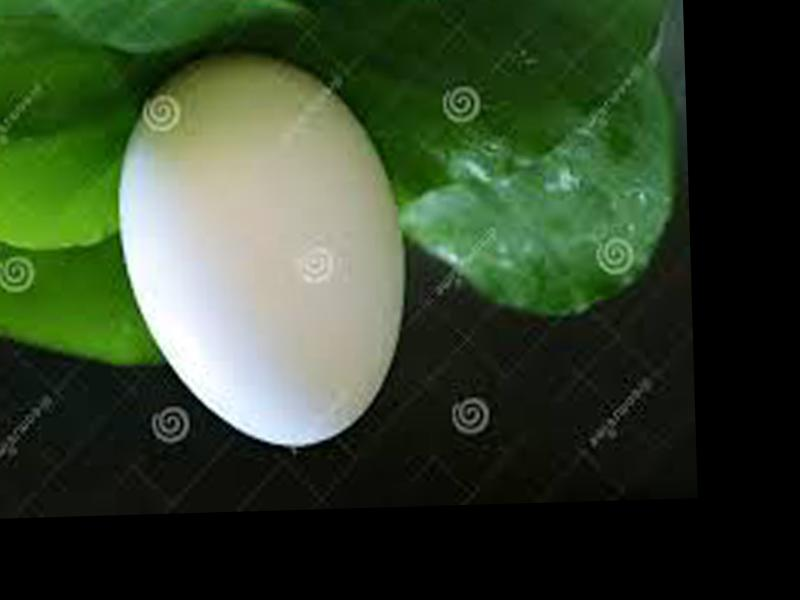Eggs: (114, 50, 410, 451)
